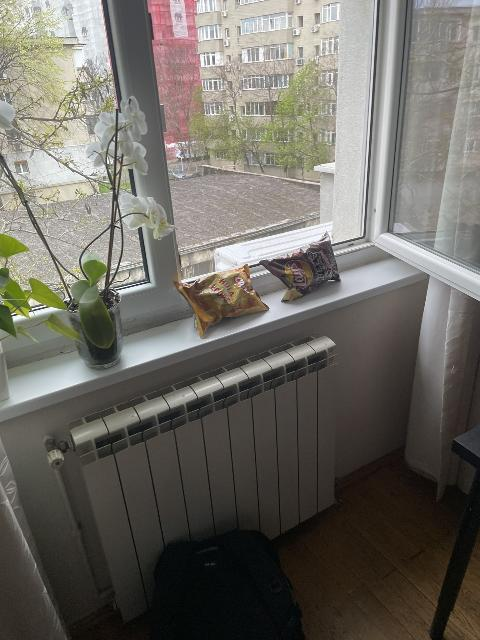Chio Hula Hoops Cheese 70g: (174, 264, 267, 336)
Lays Beef Grilled Ribs 125g: (258, 232, 339, 300)
